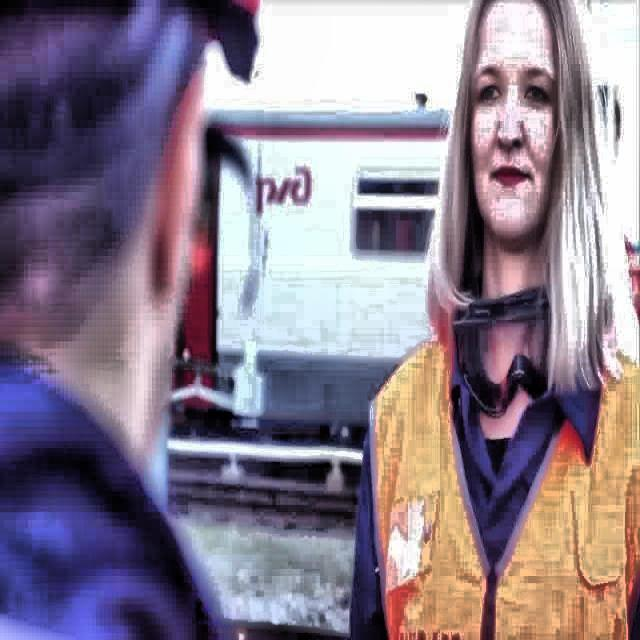safety_jacket: (366, 330, 640, 640)
